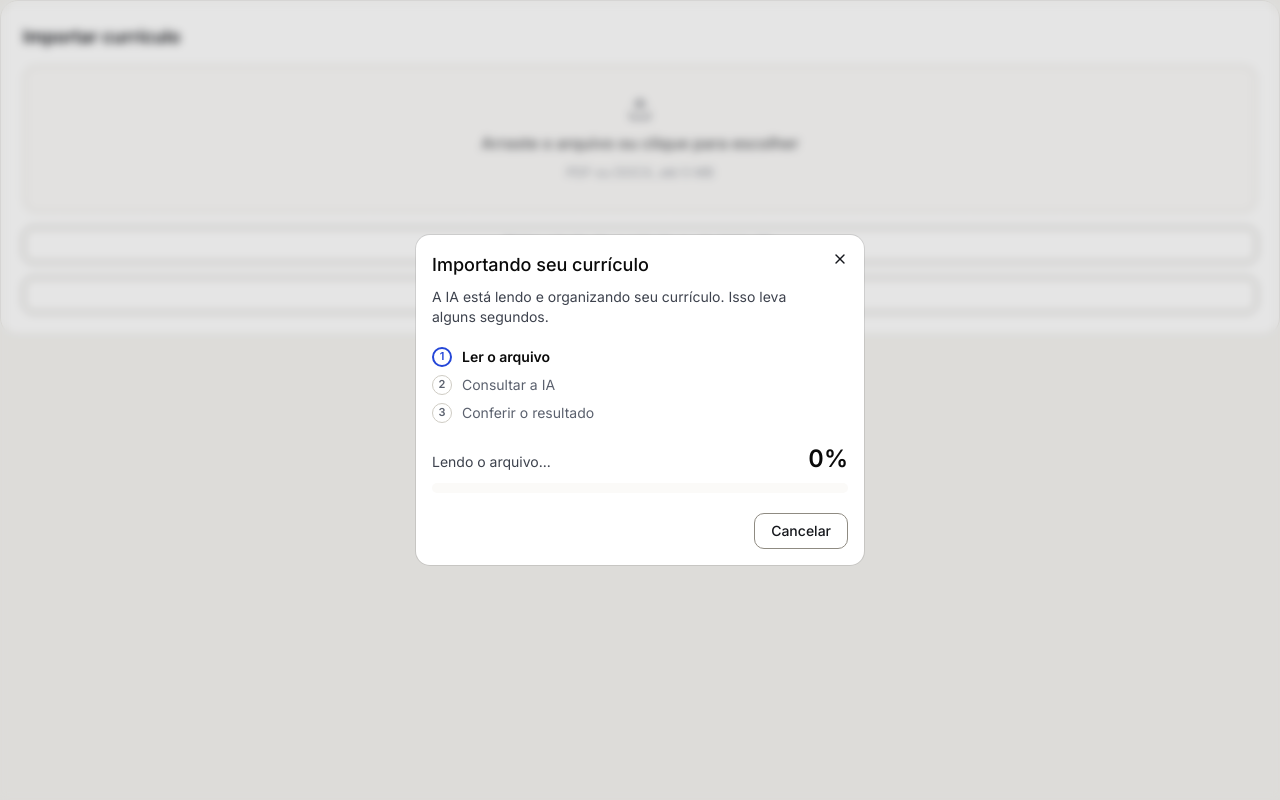
Test: ImportPanel: Cancelar › durante a leitura: volta a idle e o resultado tardio não chama a IA nem importa
Earlier steps of the test are not shown.
Expected: the text "Lendo o arquivo..." is shown, [432,452,551,472]
Expected: the file field named "Arquivo do currículo (PDF ou DOCX)" is disabled, [23,65,1257,212]
Step 1. Click the button "Cancelar" → (801, 531), box [754,513,848,549]
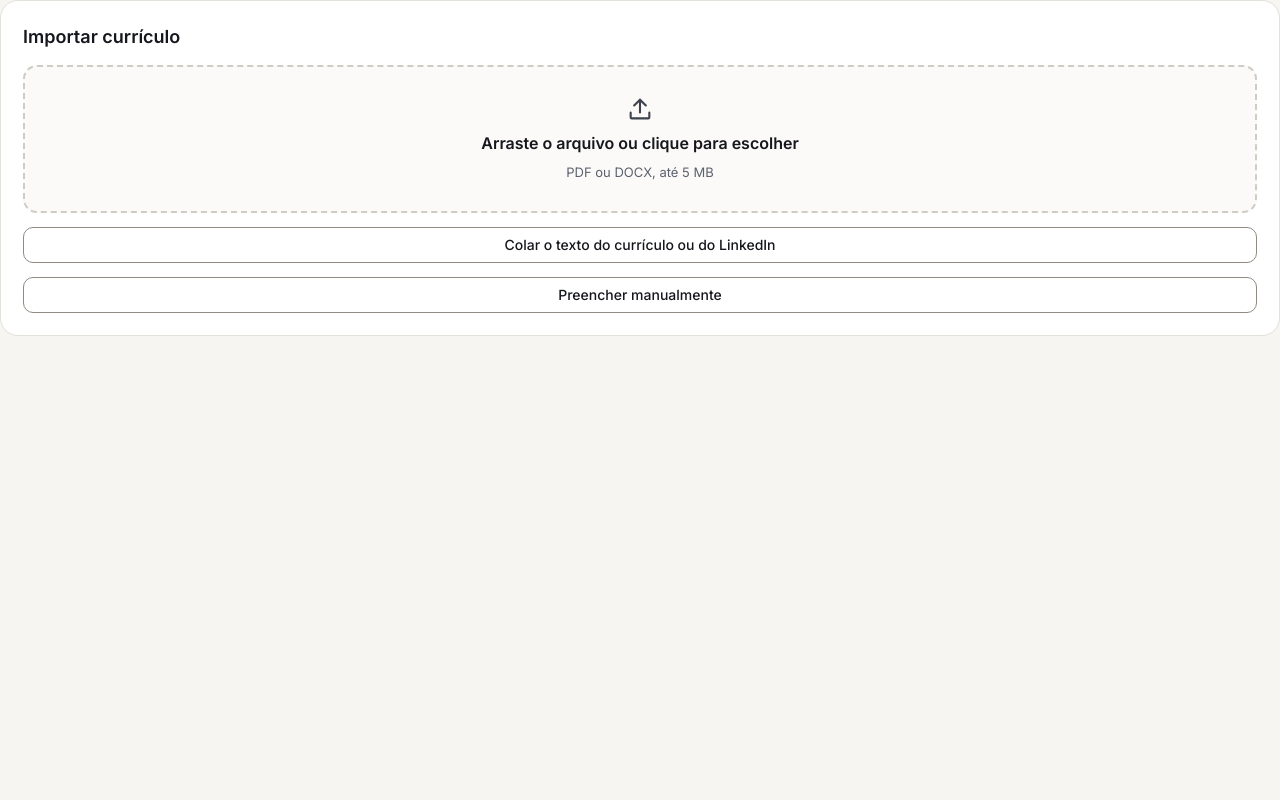
Expected: the file field named "Arquivo do currículo (PDF ou DOCX)" is enabled, [23,65,1257,212]
Expected: the text "Lendo o arquivo..." is gone
